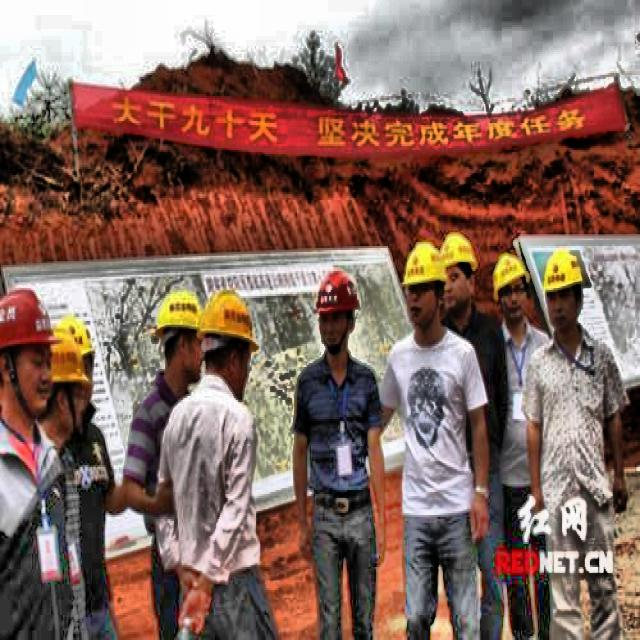helmet: (1, 282, 63, 424), (198, 282, 258, 396), (148, 290, 208, 392), (36, 329, 88, 440), (311, 264, 361, 358), (539, 240, 587, 336), (402, 240, 447, 336), (60, 313, 100, 413), (439, 229, 483, 319), (490, 250, 532, 327)
